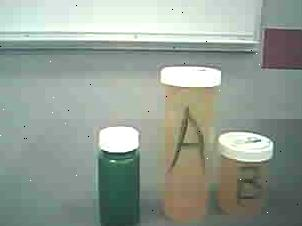Bottle A: (146, 60, 215, 223)
Bottle B: (218, 130, 280, 220)
Bottle C: (91, 122, 143, 226)
